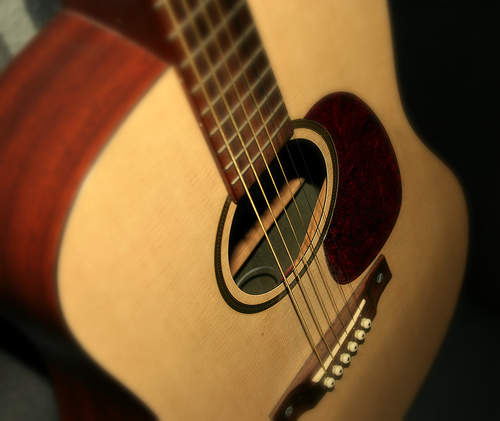guitar: (1, 1, 479, 421)
